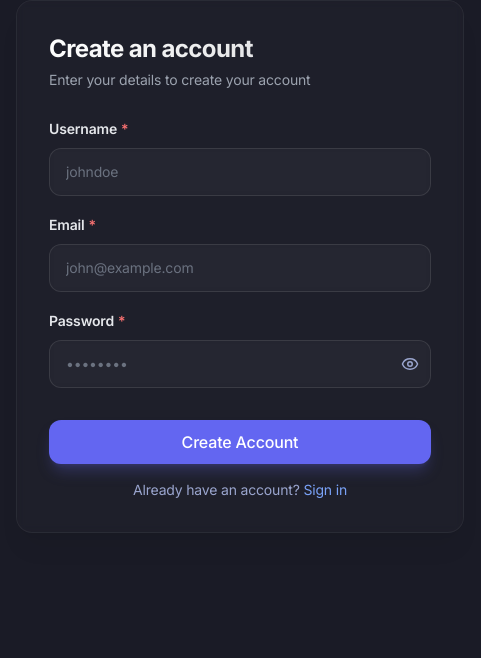
Test: AuthForm › Password Requirements Visibility › shows password requirements when password field is focused during registration
The image size is (481, 658).
Check: the text "Password requirements:" is not shown
# Focus the password field
Focus the password field labelled "Password*" at (240,364), box [49,340,431,388]
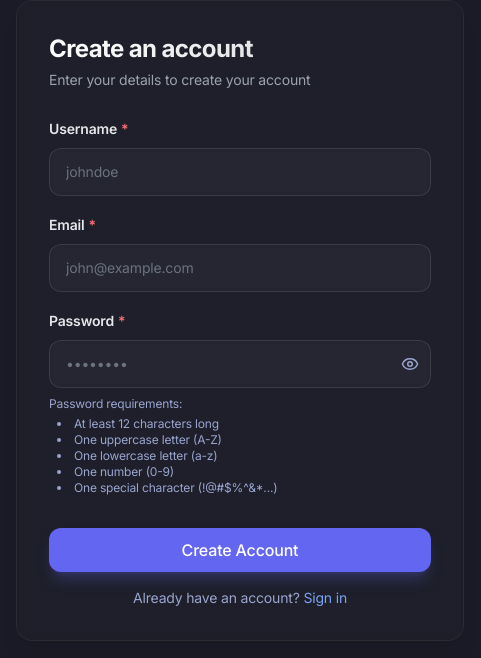
Check: the text "Password requirements:" is shown, box [49,396,182,411]
Check: the list item "At least 12 characters long" is shown, box [74,416,219,431]
Check: the list item "One uppercase letter (A-Z)" is shown, box [74,432,222,447]
